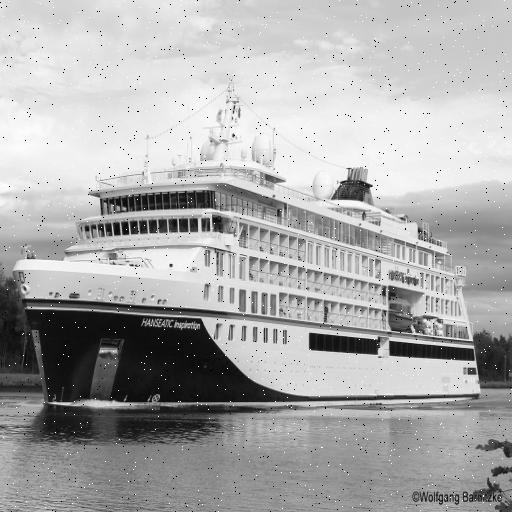cruises: (12, 76, 486, 422)
